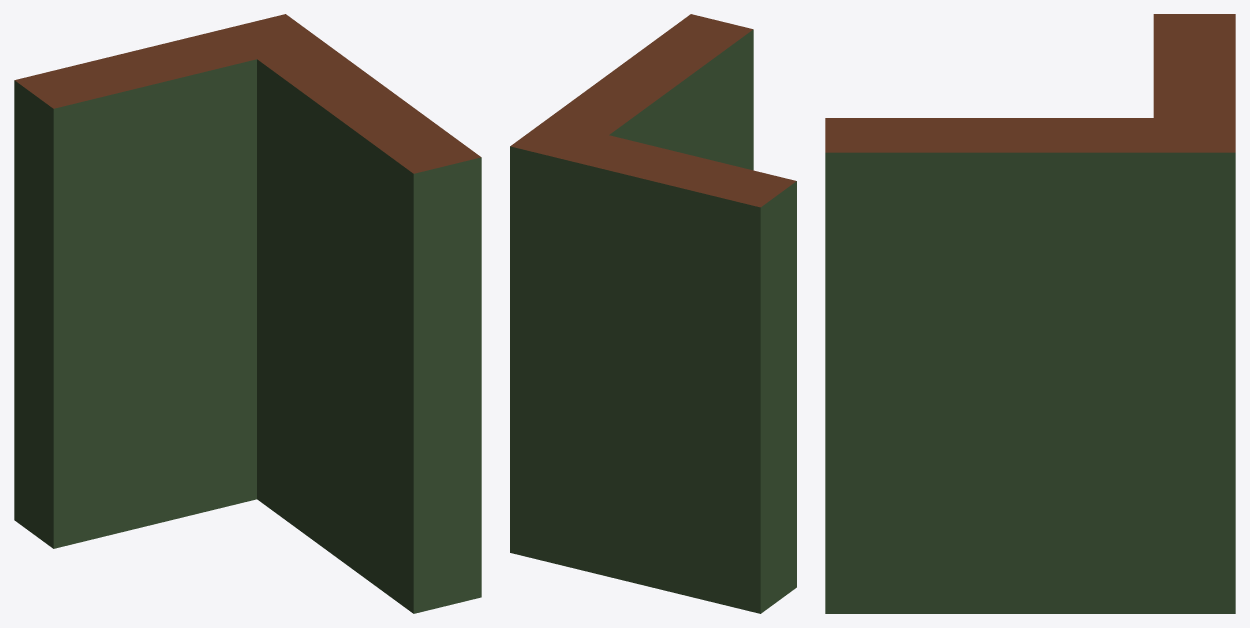
File: CornerWall_01.fbx
3 views of the same model, side by side, from view 1: azimuth 30°, elevation 25°; view 2: azimuth 150°, elevation 25°; view 3: azimuth 270°, elevation 25° (orthographic). The views are drawn at different scales.
Parts seen in each view (by area): view 1: Corner_02; view 2: Corner_02; view 3: Corner_02.
Boxes of the visible parts, left/top/right/bottom form: Corner_02: left=14, top=14, right=481, bottom=613; Corner_02: left=510, top=14, right=796, bottom=613; Corner_02: left=825, top=14, right=1235, bottom=613.
Size of the model in its own units: 200 by 310 by 250.
